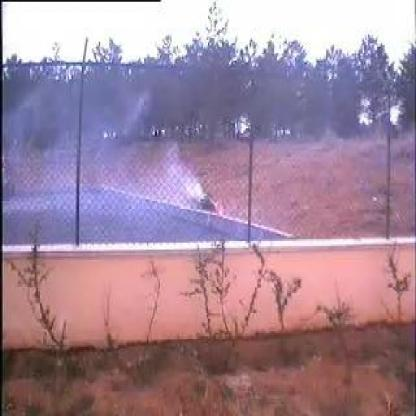-: (49, 82, 208, 238)
